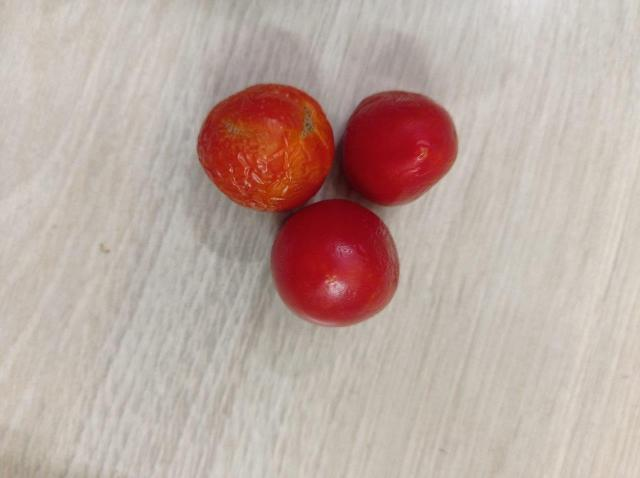defect: (196, 81, 336, 217)
